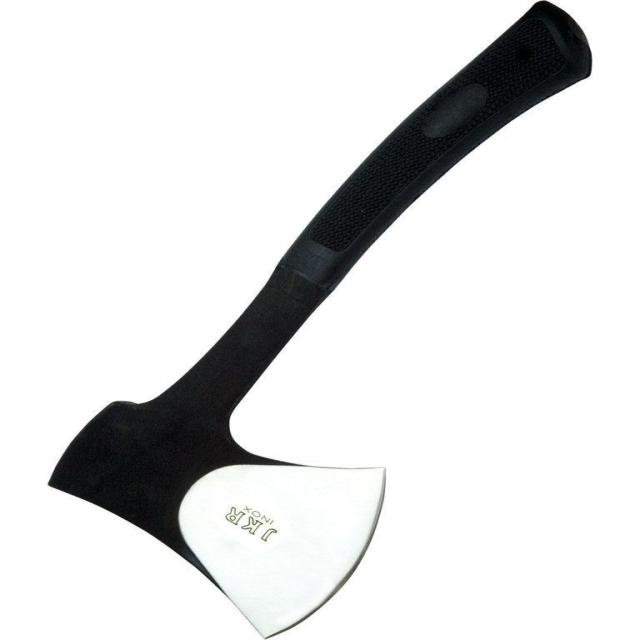Kapak: (44, 20, 552, 616)
